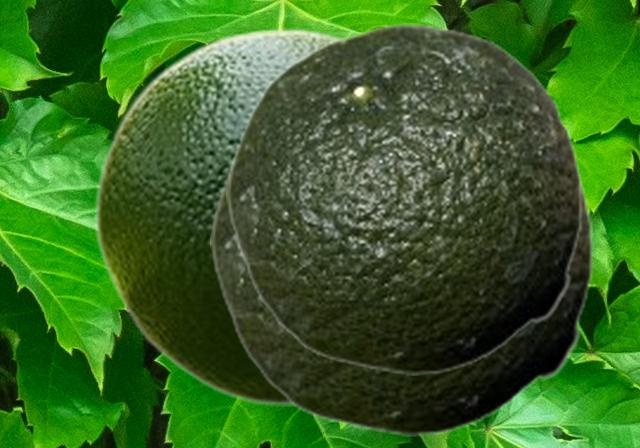calamansi: (226, 23, 582, 374), (210, 141, 593, 435), (93, 27, 349, 405)
